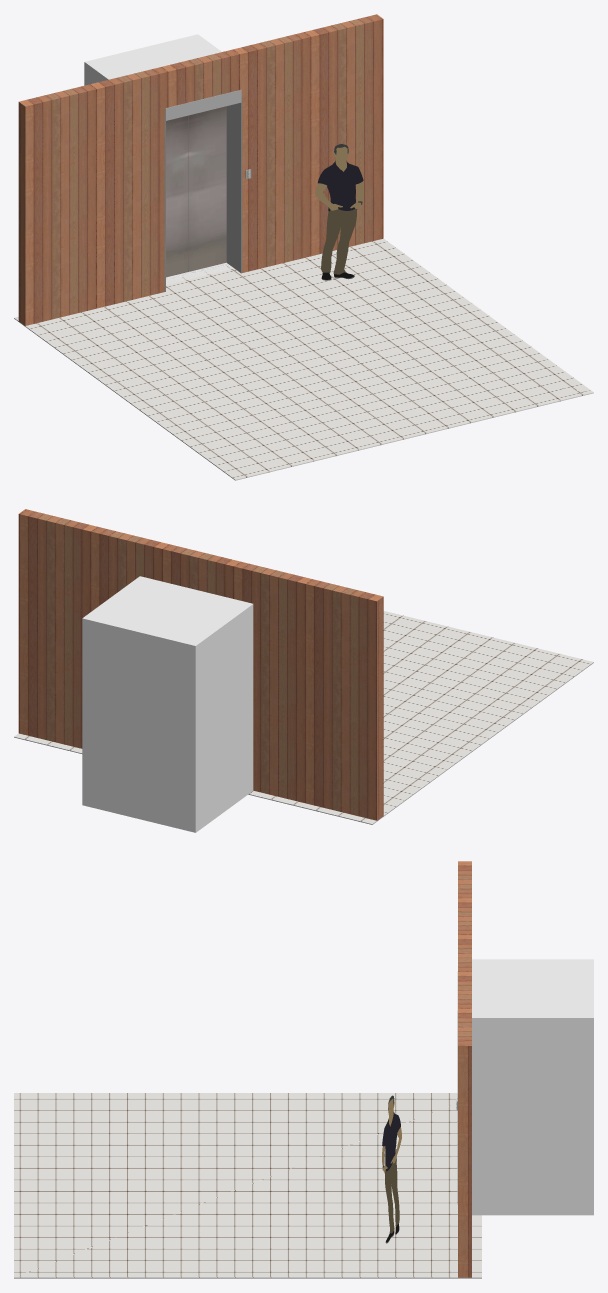
Rendered from Elevator Cladding.dae.
3 renders of one model, top to bottom at view 1: azimuth 30°, elevation 25°; view 2: azimuth 150°, elevation 25°; view 3: azimuth 270°, elevation 25°, orthographic. The views are drawn at different scales.
Visible parts, largest first — view 1: group_0, group_5, Component_1 (×2), SketchUp, Chris (×2), group_2, group_1, _3_10_Double_Door; view 2: group_5, SketchUp, group_0 (×2); view 3: group_0 (×2), SketchUp, group_5, Chris (×2).
Part boxes in pixels (<box>): group_0: <box>14,238,593,480</box>; group_5: <box>18,14,383,325</box>; Component_1 (×2): <box>166,106,226,277</box>; SketchUp: <box>84,34,233,284</box>; Chris (×2): <box>318,161,363,274</box>; group_2: <box>226,102,241,273</box>; group_1: <box>165,90,241,120</box>; _3_10_Double_Door: <box>164,97,242,291</box>; group_5: <box>18,509,383,820</box>; SketchUp: <box>82,576,253,832</box>; group_0 (×2): <box>14,611,593,824</box>; group_0 (×2): <box>14,1093,481,1278</box>; SketchUp: <box>472,959,593,1215</box>; group_5: <box>458,861,471,1277</box>; Chris (×2): <box>382,1112,400,1233</box>.
Bounding box in the file's own units: 192 × 255 × 113.
